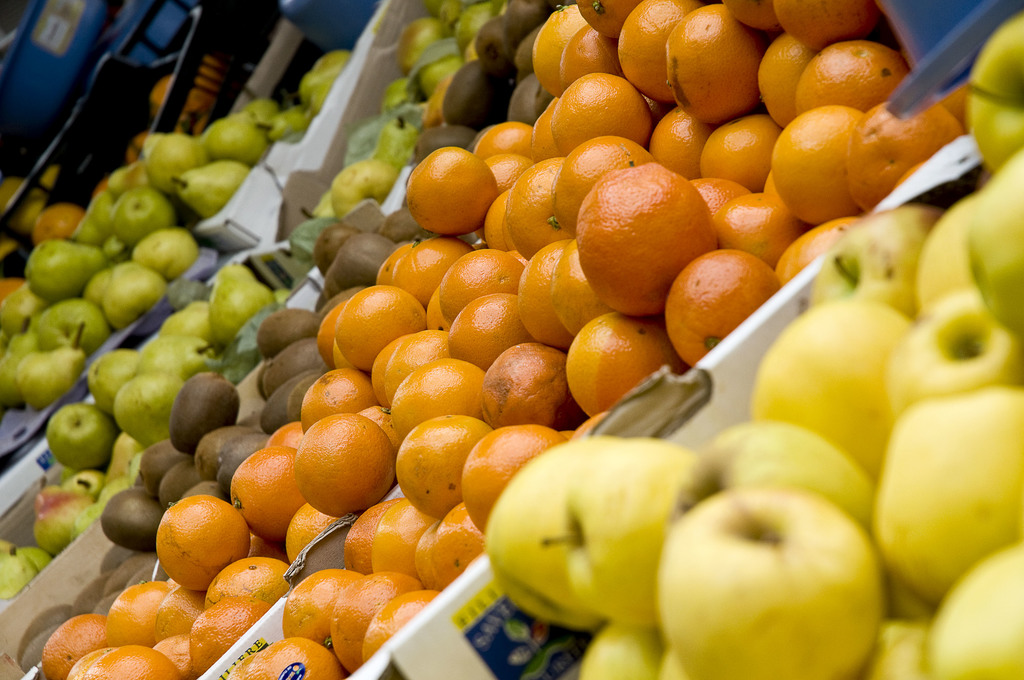Apple: (483, 5, 1023, 679), (650, 450, 904, 680)
